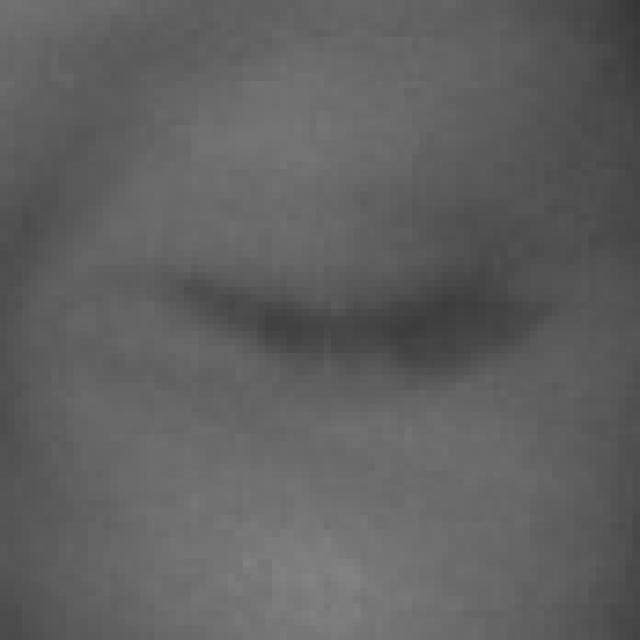Eyeclosed: (148, 131, 550, 505)
